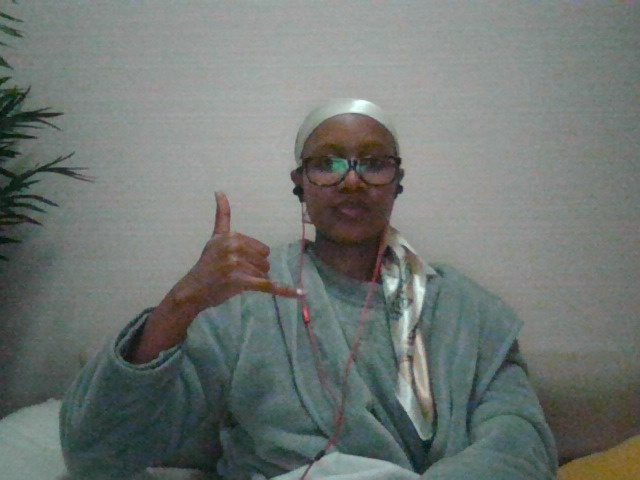callme: (162, 188, 308, 320)
